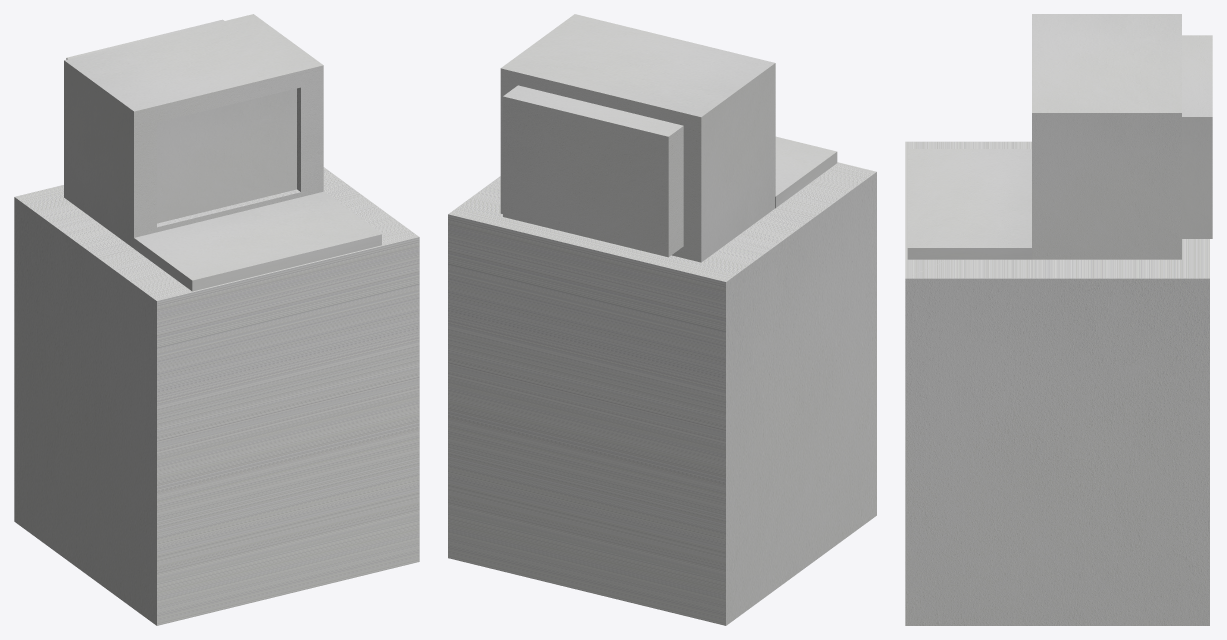
Rendered from PCSF2.obj.
3 renders of one model, left to right at view 1: azimuth 30°, elevation 25°; view 2: azimuth 150°, elevation 25°; view 3: azimuth 270°, elevation 25°, orthographic. The views are drawn at different scales.
Parts seen in each view (by area): view 1: polySurface2 PCSF:group_pasted__group2_pasted__pasted__group_pas; view 2: polySurface2 PCSF:group_pasted__group2_pasted__pasted__group_pas; view 3: polySurface2 PCSF:group_pasted__group2_pasted__pasted__group_pas.
Part boxes in pixels (x1=…): polySurface2 PCSF:group_pasted__group2_pasted__pasted__group_pas: x1=14, y1=14, x2=419, y2=625; polySurface2 PCSF:group_pasted__group2_pasted__pasted__group_pas: x1=448, y1=14, x2=876, y2=625; polySurface2 PCSF:group_pasted__group2_pasted__pasted__group_pas: x1=905, y1=14, x2=1212, y2=625.
Bounding box in the file's own units: 6.39 × 10.74 × 6.06.
5 materials, 4 textured.
